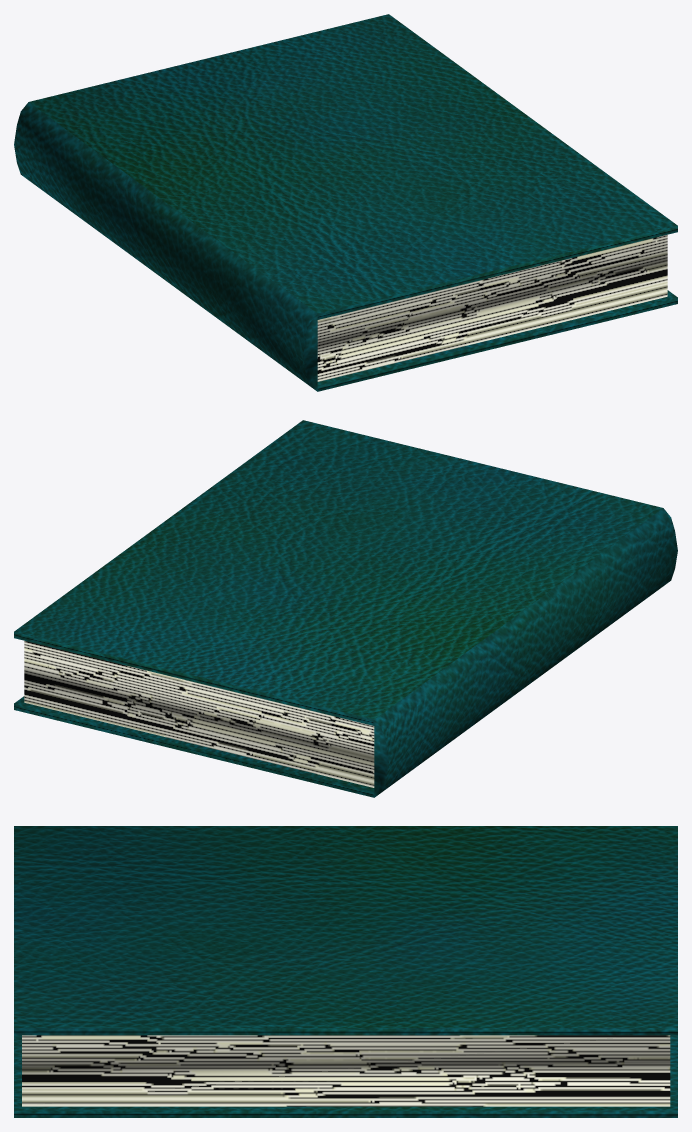
File: Book_3.fbx
The picture shows the model from 3 angles, top to bottom: view 1: azimuth 30°, elevation 25°; view 2: azimuth 150°, elevation 25°; view 3: azimuth 270°, elevation 25°; orthographic projection. The views are drawn at different scales.
Visible parts, largest first — view 1: Book; view 2: Book; view 3: Book.
Boxes of the visible parts, bbox=[...] form: Book: bbox=[14, 14, 677, 391]; Book: bbox=[14, 420, 677, 797]; Book: bbox=[14, 826, 677, 1117].
Bounding box in the file's own units: 14.85 × 2.96 × 19.84.
Materials: 1 (1 with a texture image).
